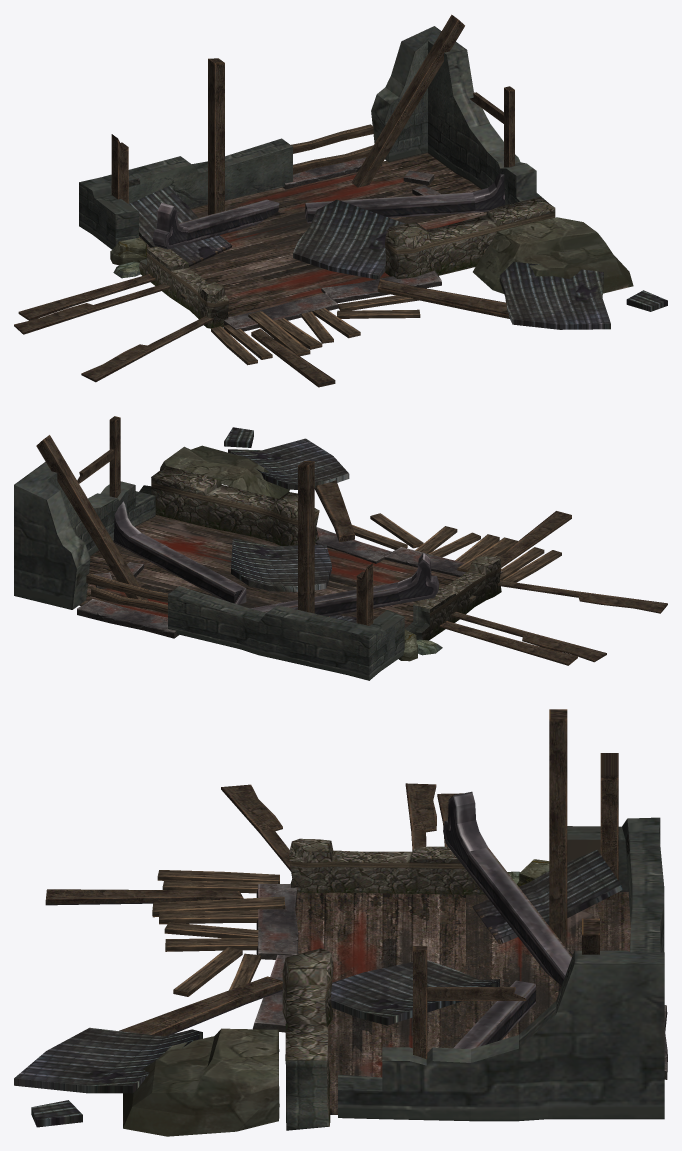
File: s7_citycrack_A.FBX
3 views of the same model, one above another, from view 1: azimuth 30°, elevation 25°; view 2: azimuth 150°, elevation 25°; view 3: azimuth 270°, elevation 25° (orthographic). The views are drawn at different scales.
Parts seen in each view (by area): view 1: s7_citycrack_A; view 2: s7_citycrack_A; view 3: s7_citycrack_A.
Part boxes in pixels (left/top/right/bottom): s7_citycrack_A: left=14, top=14, right=667, bottom=387; s7_citycrack_A: left=14, top=416, right=667, bottom=680; s7_citycrack_A: left=14, top=709, right=667, bottom=1136.
Size of the model in its own units: 161418 by 52908 by 127344.
